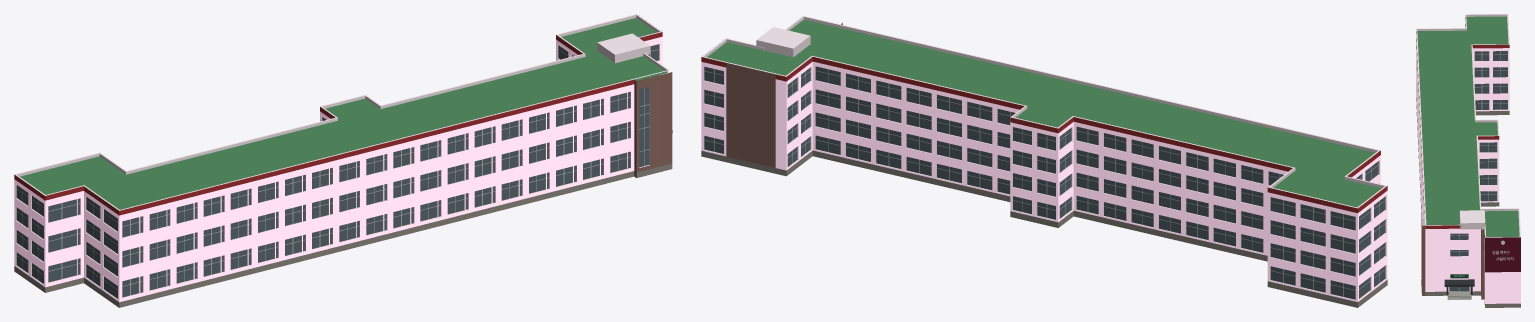
3 views of the same model, side by side, from view 1: azimuth 30°, elevation 25°; view 2: azimuth 150°, elevation 25°; view 3: azimuth 270°, elevation 25° (orthographic). The views are drawn at different scales.
Parts seen in each view (by area): view 1: wing1__wall-plaster, wing1__glass, wing1__roof, wing1__trim-concrete, wing1__base-stone, wing1__fascia, wing1__frame, wing1__brick; view 2: wing1__glass, wing1__wall-plaster, wing1__roof, wing1__trim-concrete, wing1__brick, wing1__base-stone, wing1__fascia, wing1__frame; view 3: wing1__roof, wing1__wall-plaster, wing1__trim-concrete, wing1__glass, wing1__motto-sign, wing1__base-stone, wing1__brick, wing1__fascia, wing1__frame, wing1__entry-recess, wing1__entry-steps, wing1__entrance-school-sign (+1 smaller).
Boxes of the visible parts, x1,y1,x2,y2 form: wing1__wall-plaster: (14, 36, 662, 302); wing1__glass: (16, 44, 658, 298); wing1__roof: (20, 18, 666, 209); wing1__trim-concrete: (14, 14, 669, 299); wing1__base-stone: (14, 163, 672, 307); wing1__fascia: (14, 32, 662, 215); wing1__frame: (16, 46, 659, 295); wing1__brick: (634, 72, 672, 177); wing1__glass: (704, 66, 1384, 299); wing1__wall-plaster: (701, 61, 1387, 301); wing1__roof: (707, 19, 1381, 207); wing1__trim-concrete: (702, 15, 1386, 300); wing1__brick: (726, 23, 842, 167); wing1__base-stone: (701, 150, 1387, 307); wing1__fascia: (701, 57, 1387, 213); wing1__frame: (704, 69, 1385, 296); wing1__roof: (1417, 16, 1519, 236); wing1__wall-plaster: (1416, 20, 1520, 303); wing1__trim-concrete: (1416, 14, 1520, 291); wing1__glass: (1449, 51, 1507, 291); wing1__motto-sign: (1485, 237, 1520, 272); wing1__base-stone: (1416, 98, 1520, 307); wing1__brick: (1421, 216, 1484, 299); wing1__fascia: (1416, 17, 1509, 237); wing1__frame: (1450, 51, 1507, 290); wing1__entry-recess: (1444, 279, 1474, 295); wing1__entry-steps: (1447, 291, 1471, 299); wing1__entrance-school-sign: (1450, 274, 1468, 278).
Bounding box in the file's own units: 106 × 16.45 × 21.02.
14 materials, 2 textured.
